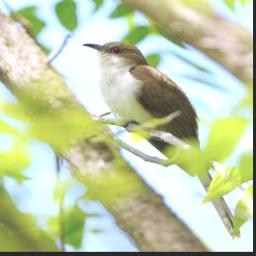Cuckoo: (82, 39, 244, 239)
